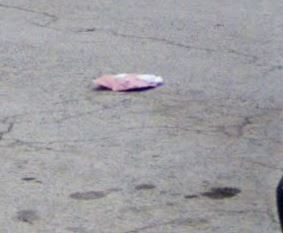trash: (88, 71, 168, 94)
